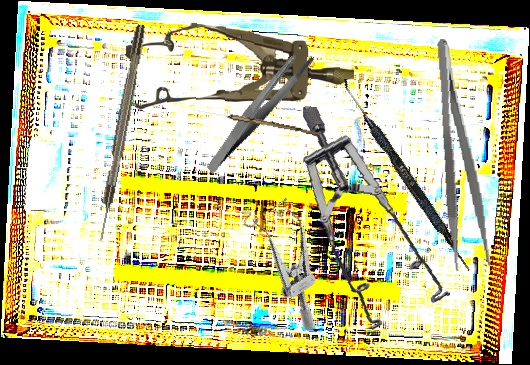Dressing Forceps: (182, 46, 335, 175), (431, 36, 493, 272)
Hook Surgical: (94, 23, 148, 243)
Spatula Surgical: (335, 78, 477, 273)
Speculum: (277, 105, 471, 339), (123, 21, 356, 120), (229, 184, 357, 335)
Surgical Spoon: (196, 108, 321, 136)
